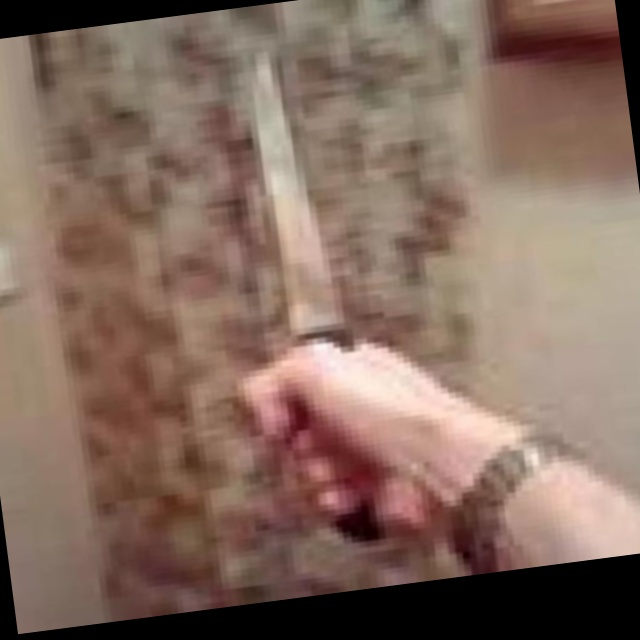Sharp-Object: (238, 50, 382, 558)
